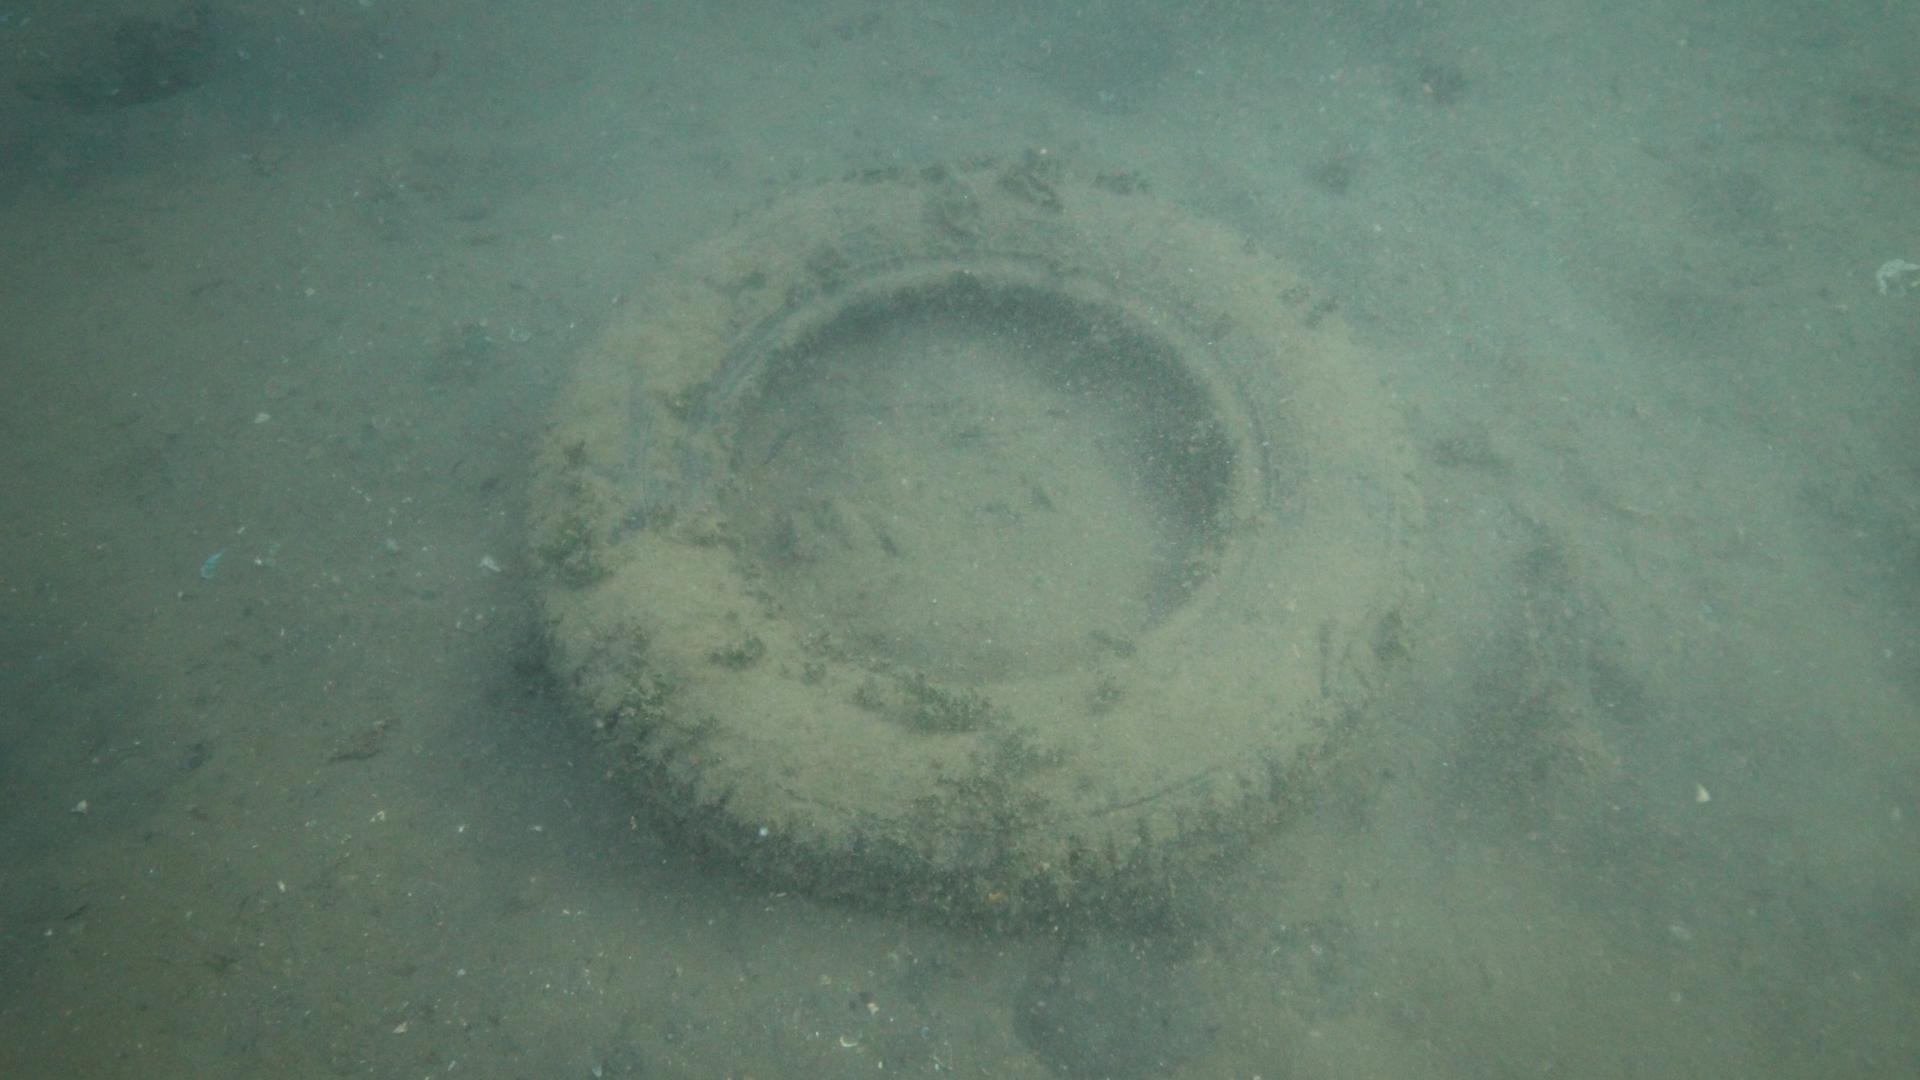tire: (521, 164, 1425, 932)
